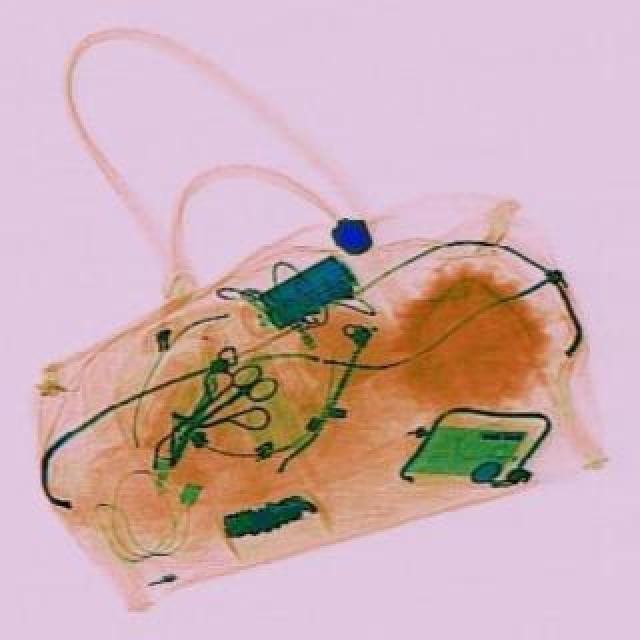pliers: (170, 354, 280, 448)
